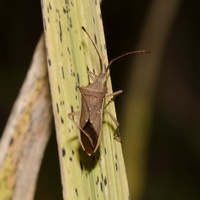insect: (68, 50, 150, 155)
